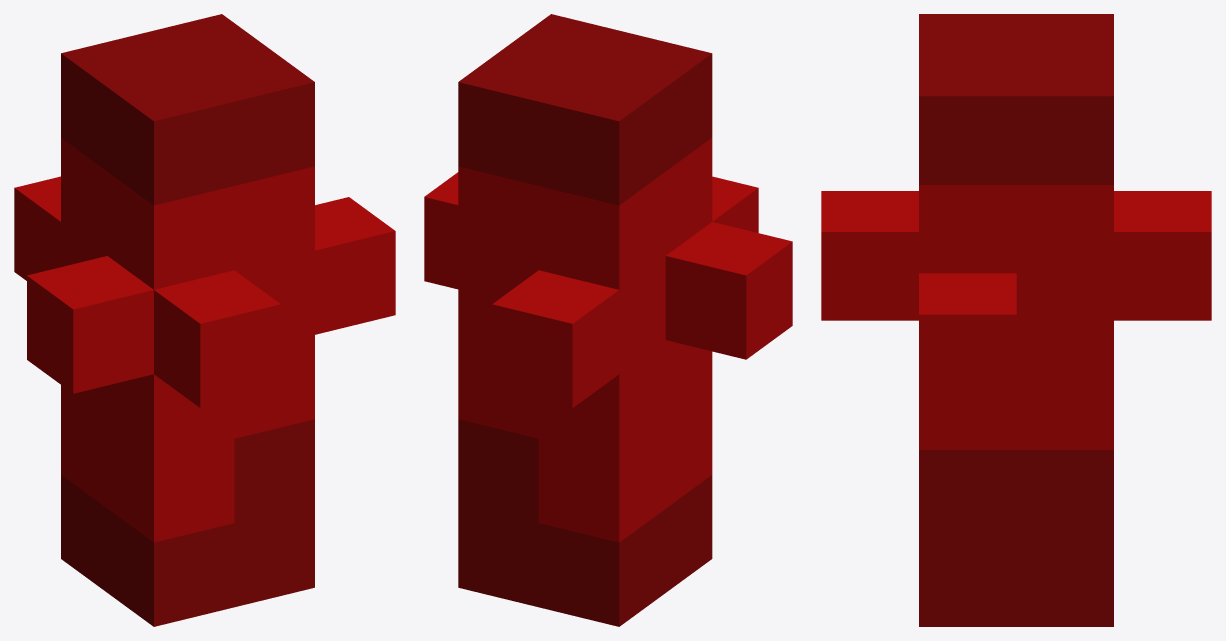
Rendered from hydrant.obj.
3 views of the same model, side by side, from view 1: azimuth 30°, elevation 25°; view 2: azimuth 150°, elevation 25°; view 3: azimuth 270°, elevation 25° (orthographic). The views are drawn at different scales.
Size of the model in its own units: 0.4 by 0.6 by 0.4.
1 material, 1 textured.
